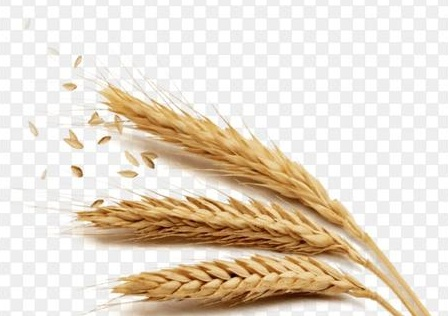wheat: (92, 83, 357, 229), (49, 185, 366, 259), (87, 253, 374, 300)
